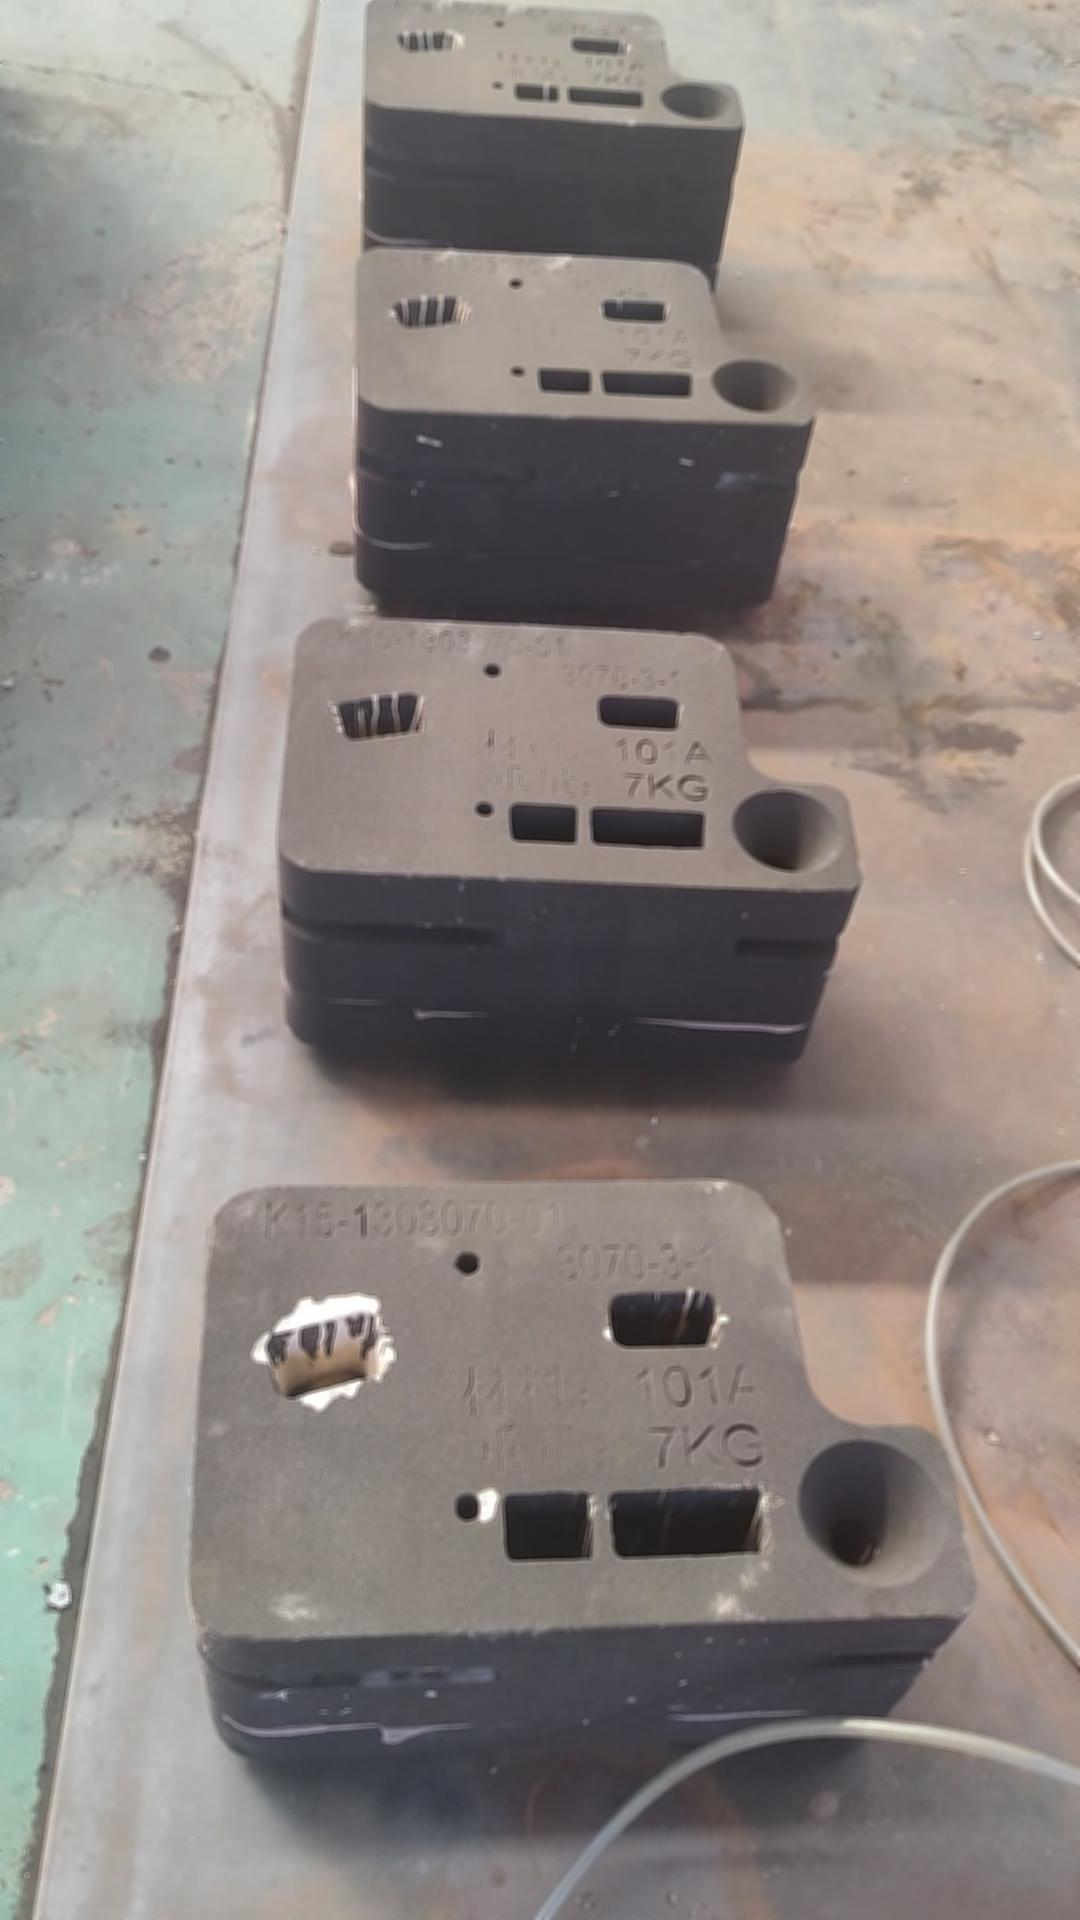pouring hole: (799, 1440, 945, 1586), (732, 789, 843, 873), (712, 360, 796, 414), (659, 83, 732, 119)
